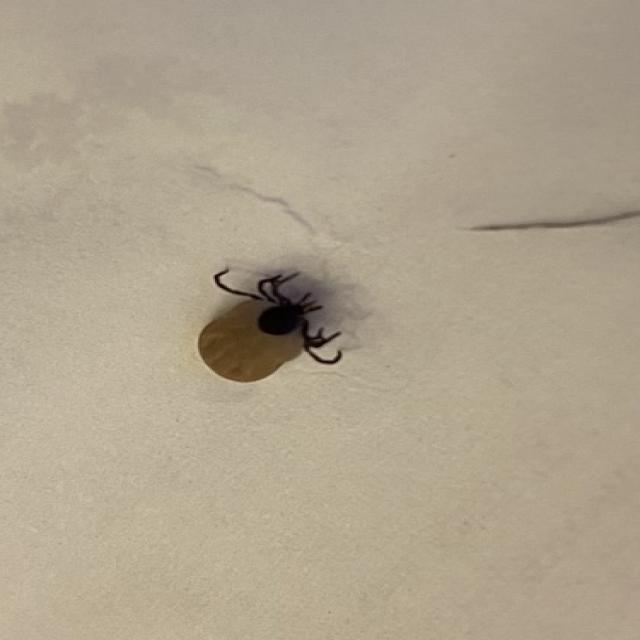Ixodes Ricinus-F-Fed: (195, 269, 346, 383)
